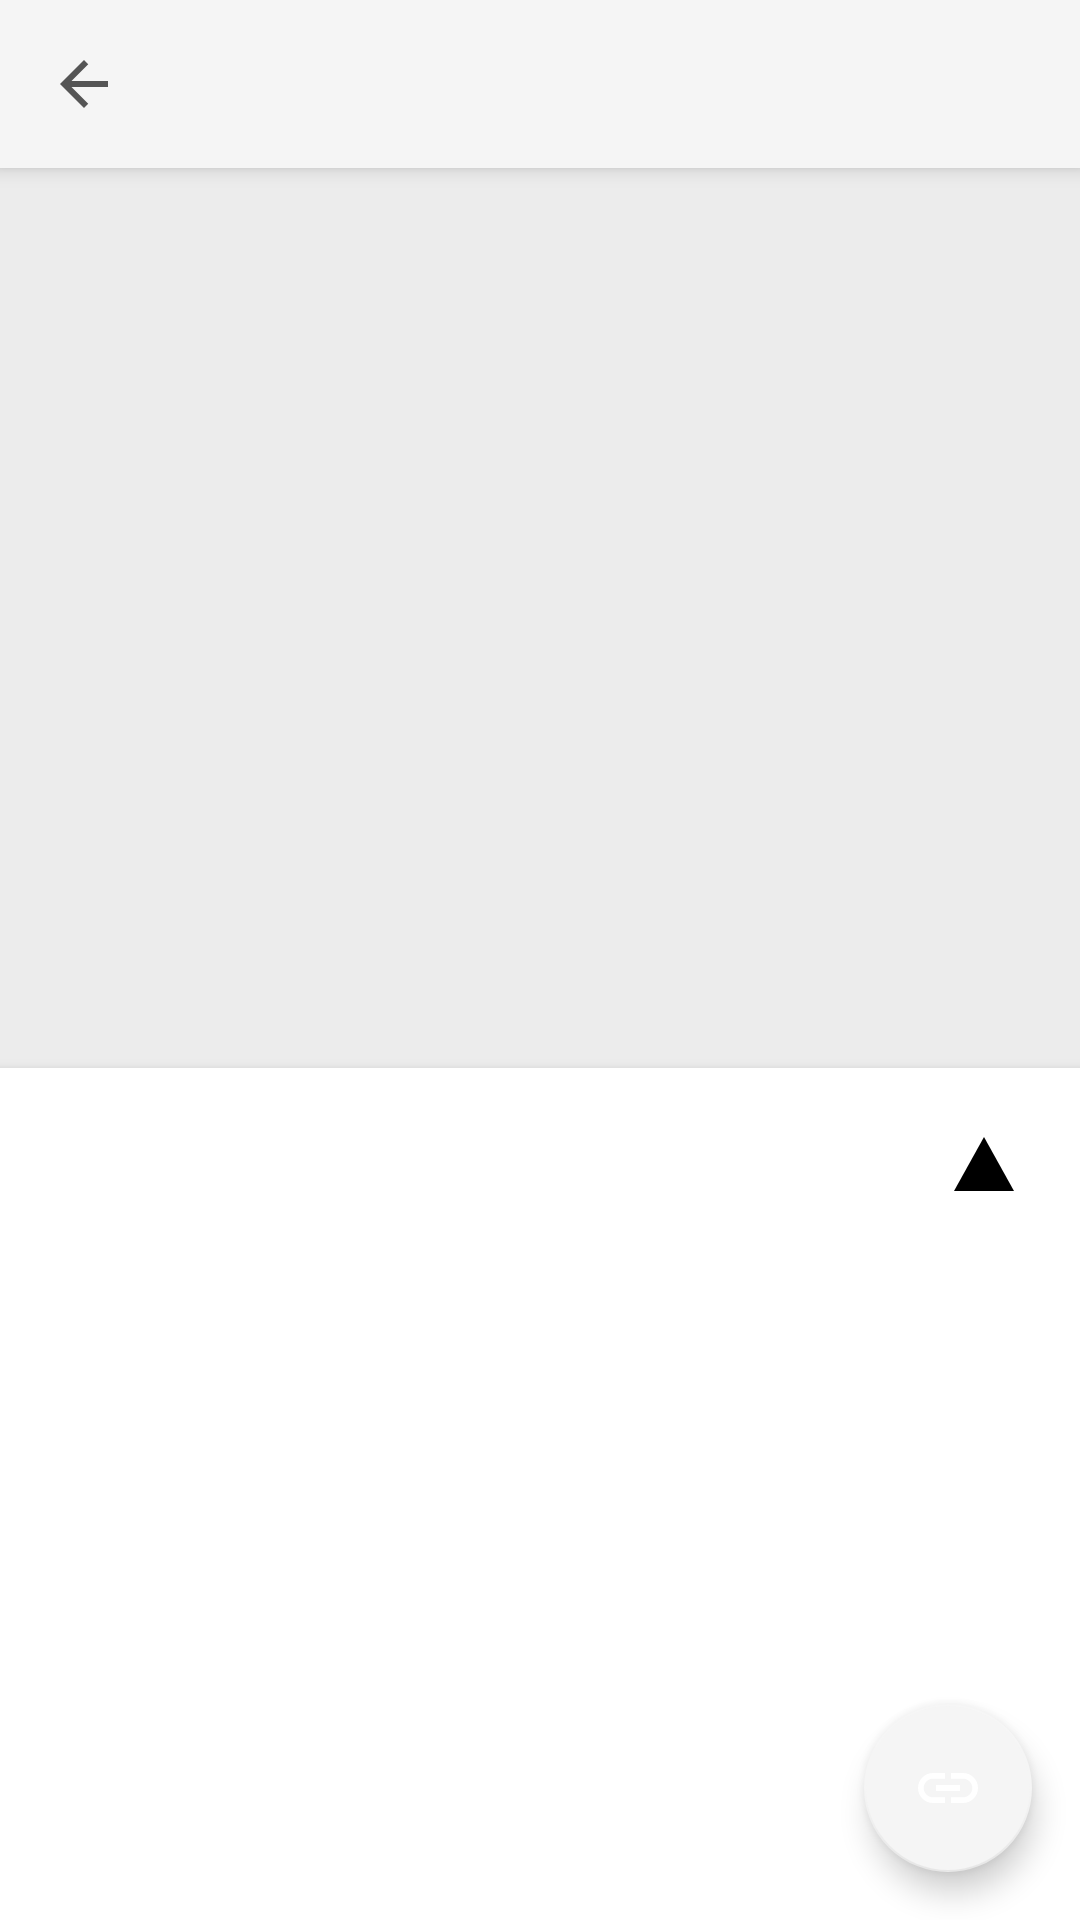

Where to tap for icons on this 1080px x 1920px app screen, as [x,y]:
link: [948,1788]
